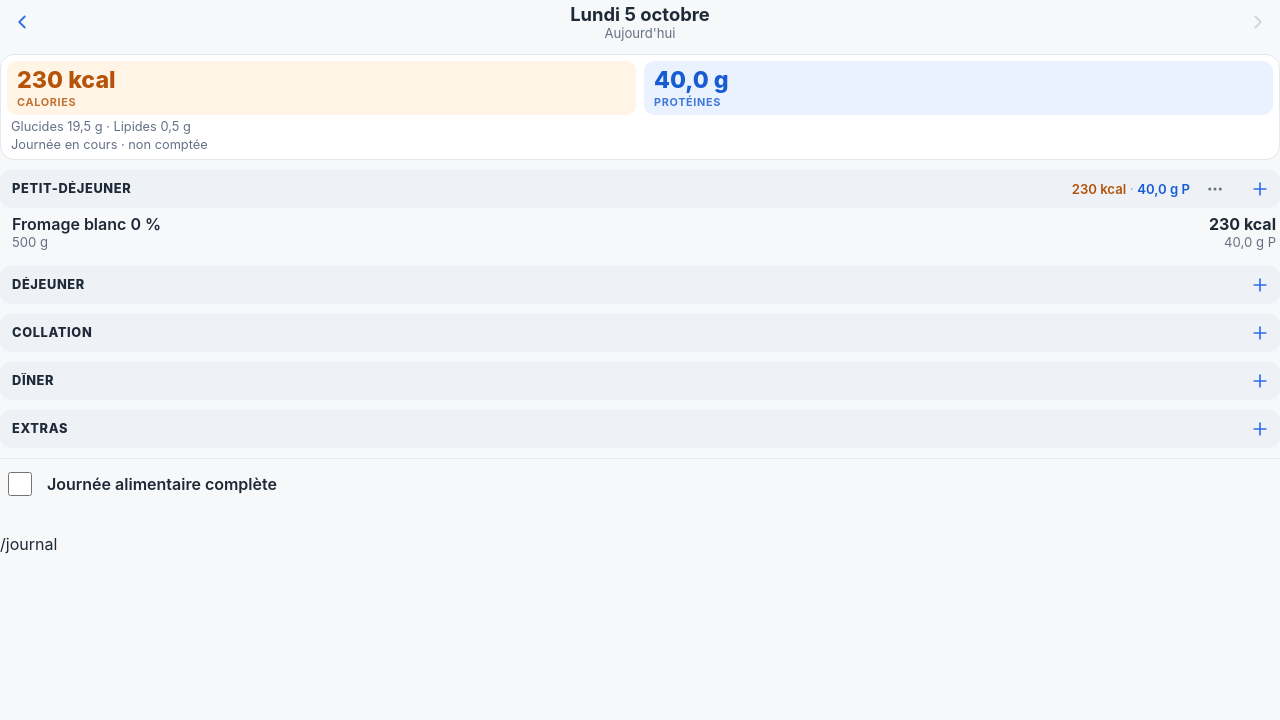
Test: lignes regroupées (affichage seulement) › toucher le groupe : la quantité totale, « Regroupe 2 saisies » ; 500 → 300 g : la plus récente porte la baisse ; supprimer : « 2 saisies seront supprimées »
The width and height of the screenshot is (1280, 720).
Click the button "Fromage blanc 0 % 230 kcal 500 g 40,0 g P" at (87, 224), box top-left (0, 208), bottom-right (1279, 256)
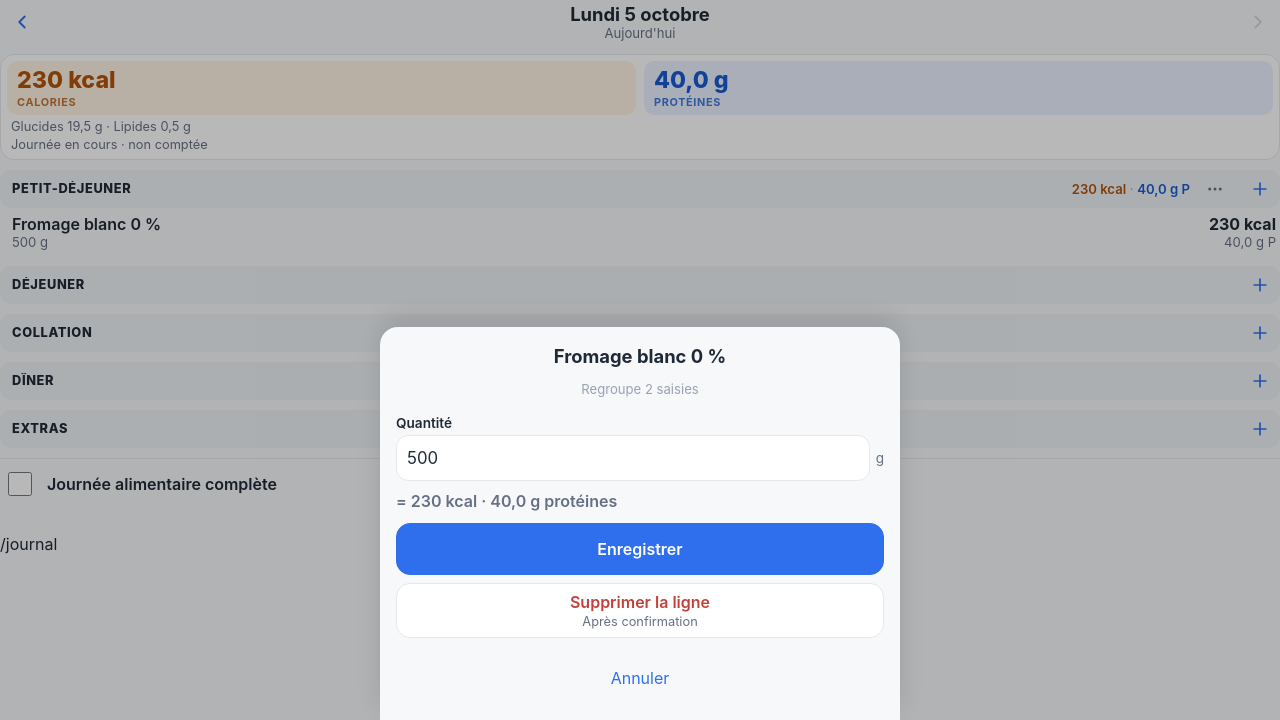
Check: the field named "Quantité en g" holds "500"
Check: the text "Regroupe 2 saisies" is shown, box top-left (581, 381), bottom-right (699, 397)
Replace the text in the field named "Quantité en g" with "300" at (633, 458), box top-left (396, 435), bottom-right (870, 481)
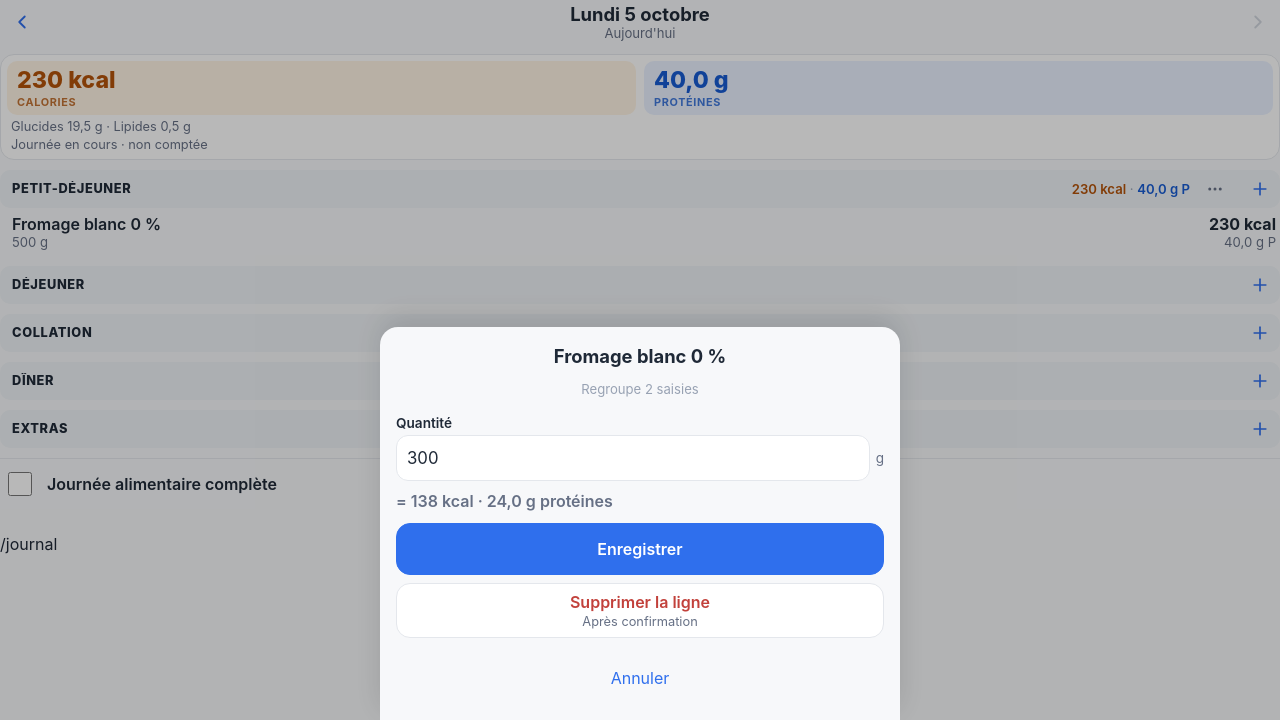
Click the button "Enregistrer" at (640, 549), box top-left (396, 523), bottom-right (884, 575)
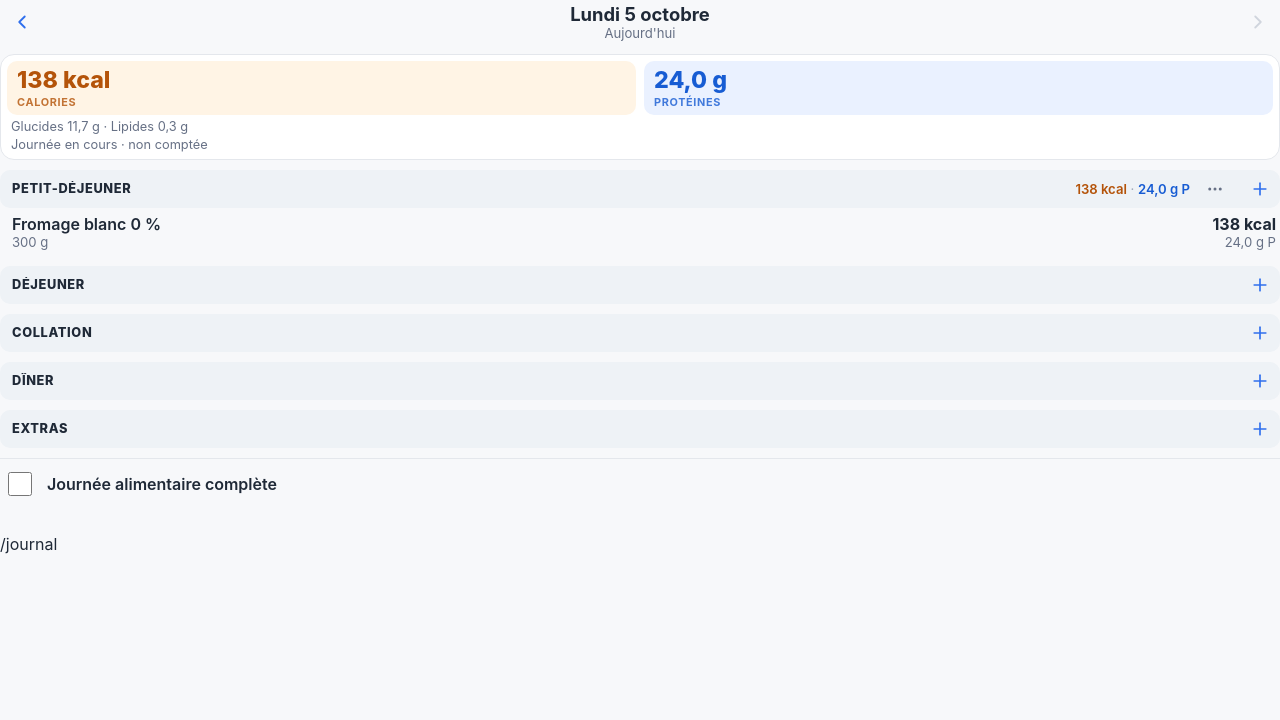
Check: the button "Fromage blanc 0 % 138 kcal 300 g 24,0 g P" is shown
Click the button "Fromage blanc 0 % 138 kcal 300 g 24,0 g P" at (87, 224), box top-left (0, 208), bottom-right (1279, 256)
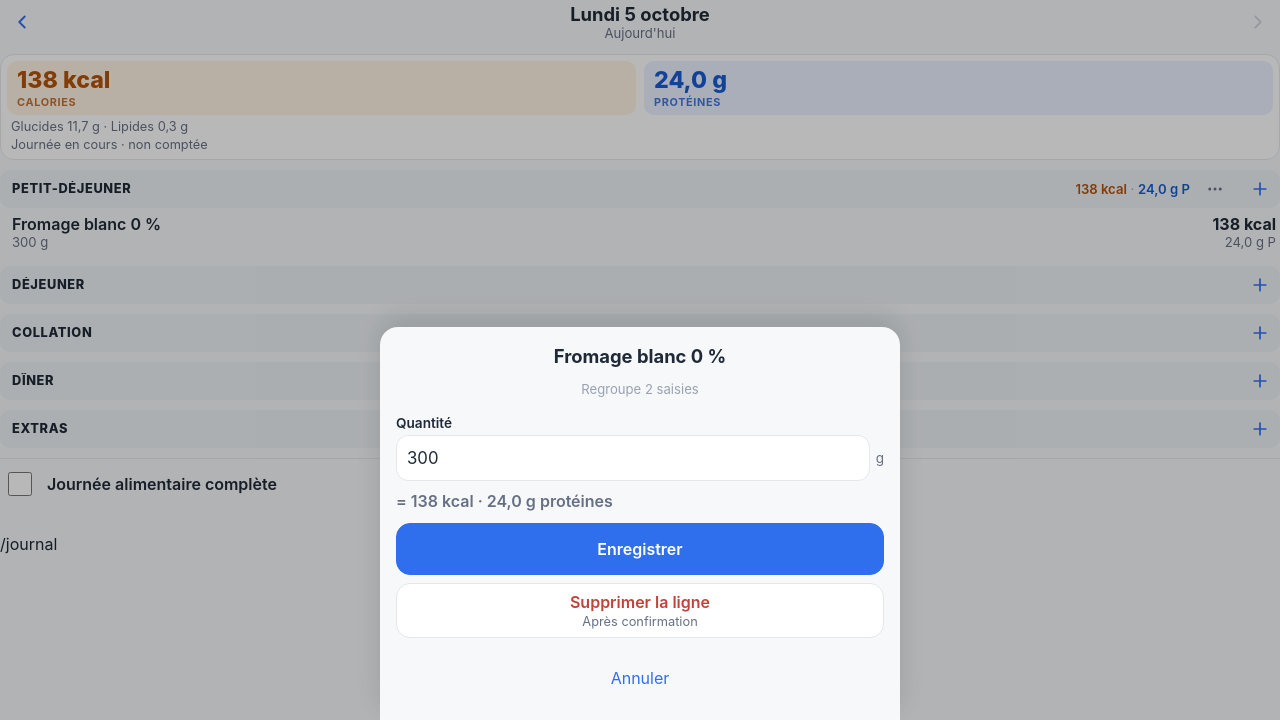
Click the button "Supprimer la ligne Après confirmation" at (640, 610), box top-left (396, 583), bottom-right (884, 638)
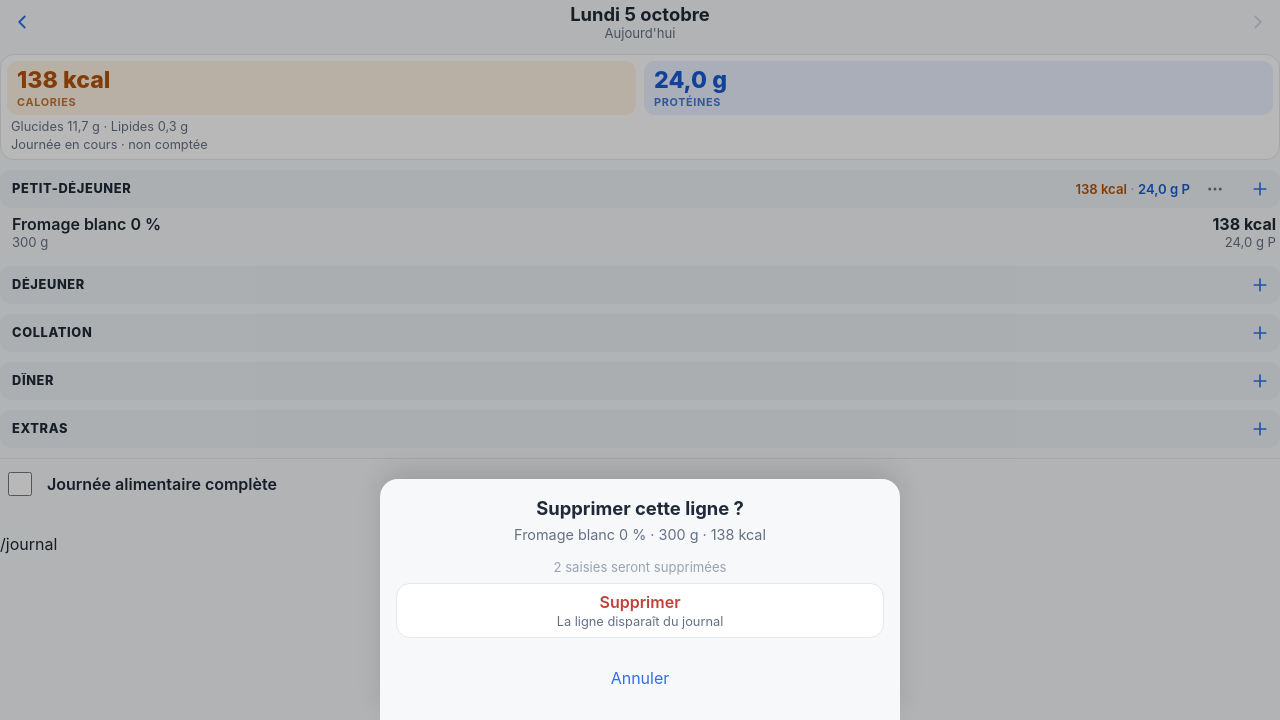
Check: the text "2 saisies seront supprimées" is shown, box top-left (554, 559), bottom-right (726, 575)
Click the button "Supprimer La ligne disparaît du journal" at (640, 610), box top-left (396, 583), bottom-right (884, 638)
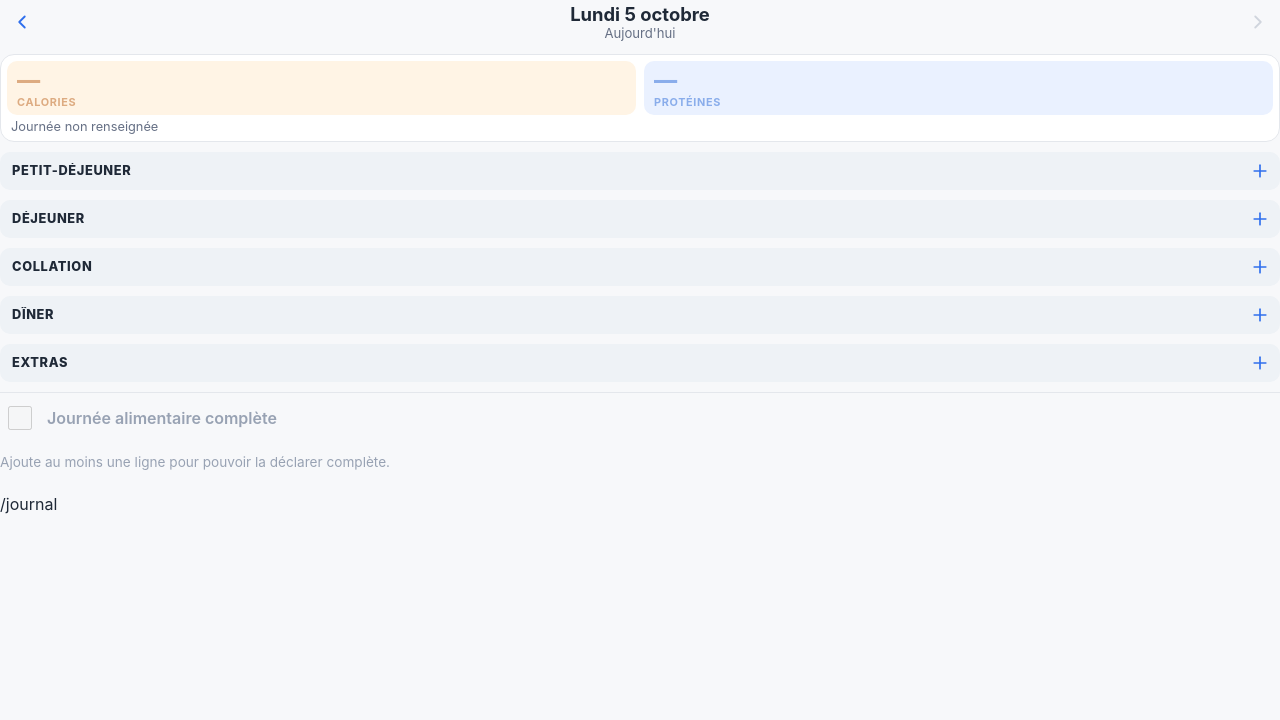
Check: the text "Journée non renseignée" is shown, box top-left (11, 119), bottom-right (158, 134)
